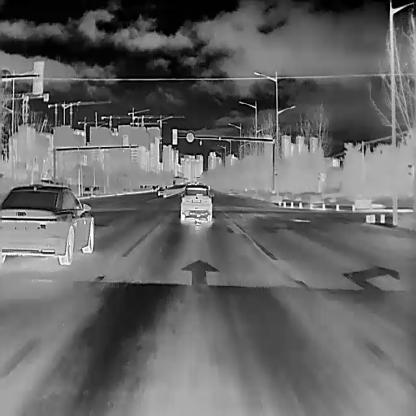car: (0, 183, 94, 264), (178, 184, 214, 221), (156, 186, 164, 194), (150, 184, 156, 191)
